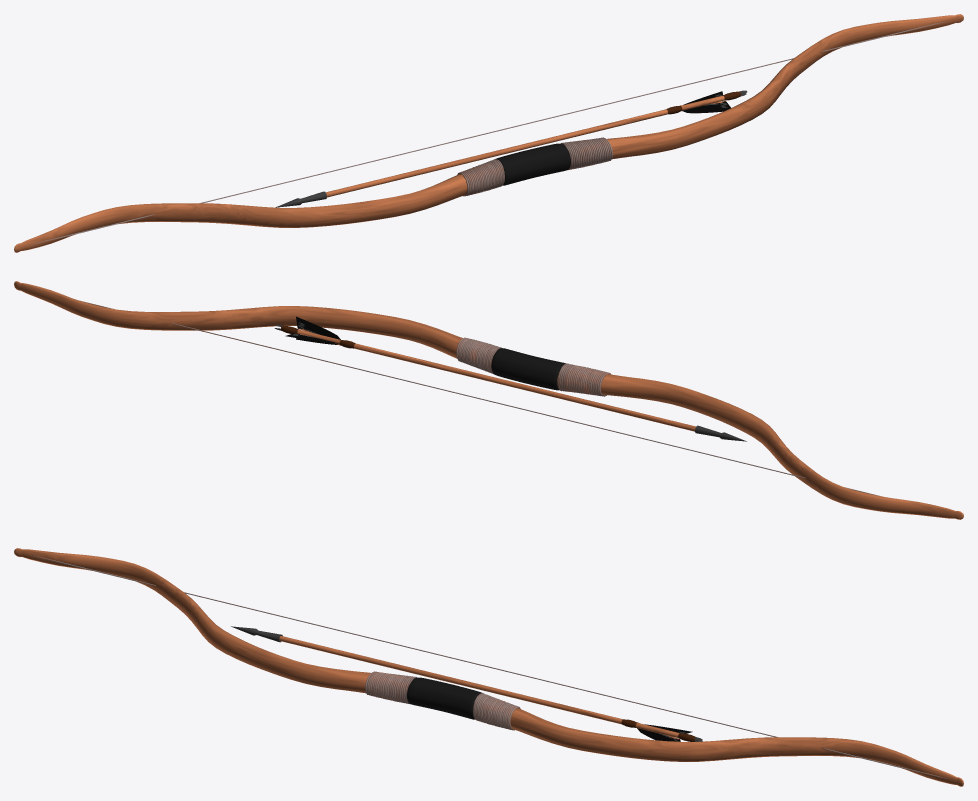
File: Arrow.fbx
The picture shows the model from 3 angles, top to bottom: view 1: azimuth 30°, elevation 25°; view 2: azimuth 150°, elevation 25°; view 3: azimuth 330°, elevation 25°; orthographic projection.
Visible parts, largest first — view 1: polySurface8, polySurface4, polySurface7; view 2: polySurface8, polySurface4, polySurface7; view 3: polySurface8, polySurface4, polySurface7.
Part boxes in pixels (left/top/right/bottom): polySurface8: left=14, top=14, right=963, bottom=252; polySurface4: left=275, top=90, right=747, bottom=207; polySurface7: left=30, top=21, right=946, bottom=245; polySurface8: left=14, top=281, right=963, bottom=519; polySurface4: left=274, top=316, right=746, bottom=441; polySurface7: left=80, top=300, right=880, bottom=496; polySurface8: left=14, top=548, right=963, bottom=786; polySurface4: left=231, top=626, right=702, bottom=741; polySurface7: left=31, top=555, right=947, bottom=779.
Size of the model in its own units: 0.0143 by 0.000372 by 0.00175.
Materials: 3 (3 with a texture image).
